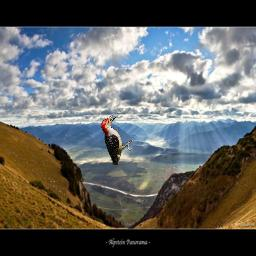Woodpecker: (101, 113, 135, 165)
